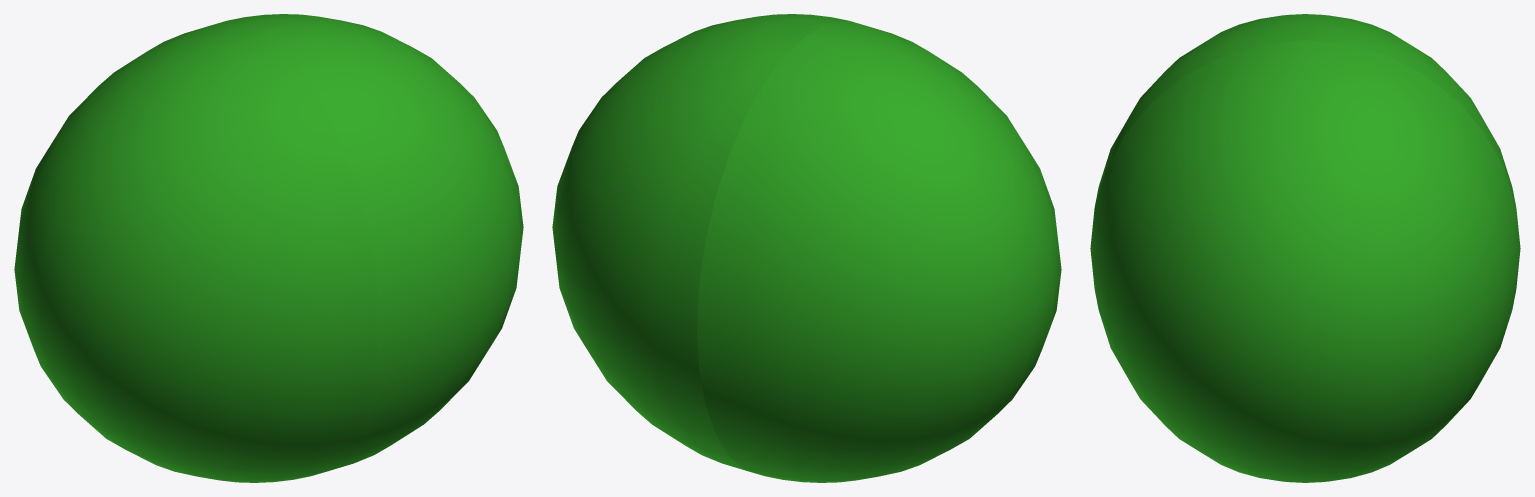
The model's file is Watermelon.fbx.
The picture shows the model from 3 angles, left to right: view 1: azimuth 30°, elevation 25°; view 2: azimuth 150°, elevation 25°; view 3: azimuth 270°, elevation 25°; orthographic projection. The views are drawn at different scales.
Parts seen in each view (by area): view 1: Sphere.008; view 2: Sphere.008; view 3: Sphere.008.
Boxes of the visible parts, x1,y1,x2,y2 form: Sphere.008: [14, 14, 523, 482]; Sphere.008: [552, 14, 1061, 482]; Sphere.008: [1090, 14, 1520, 482].
Size of the model in its own units: 0.8744 by 0.7744 by 0.7243.
